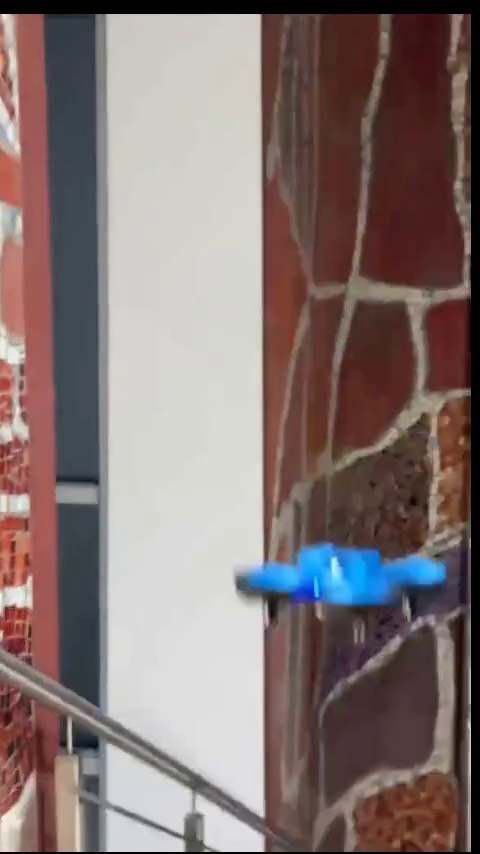drone: (231, 542, 447, 628)
